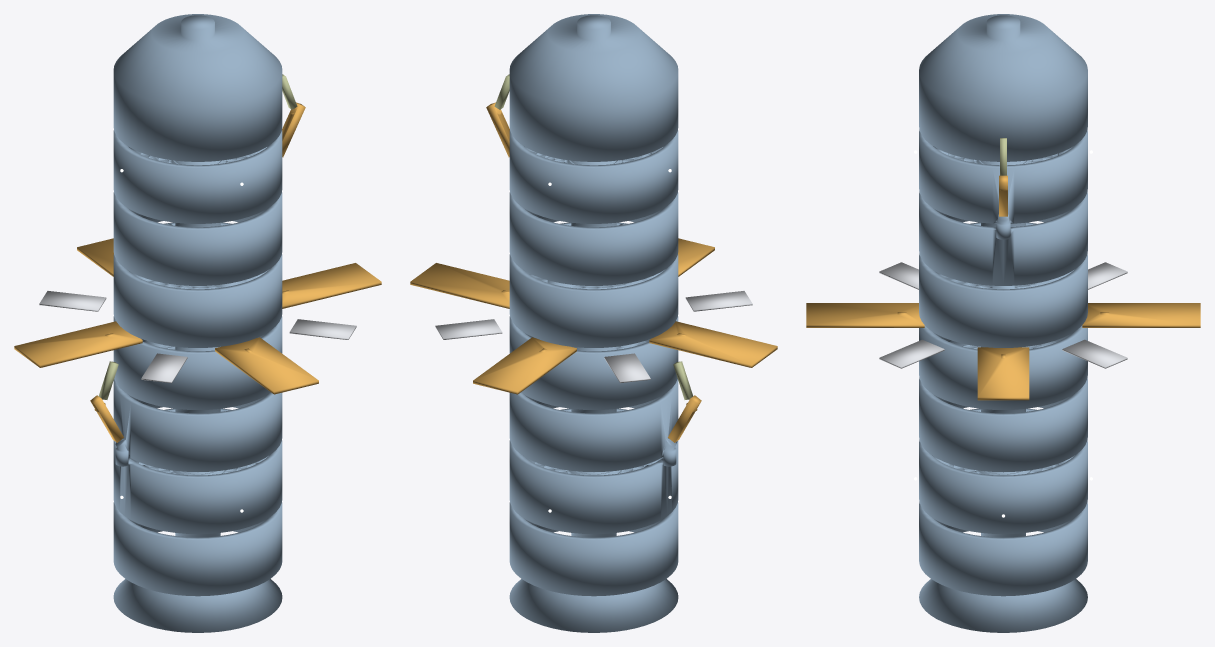
The model's file is seg_earth_station.glb.
3 views of the same model, side by side, from view 1: azimuth 30°, elevation 25°; view 2: azimuth 150°, elevation 25°; view 3: azimuth 270°, elevation 25° (orthographic).
Parts seen in each view (by area): view 1: SEG-EARTH.005, SEG-EARTH.004, SEG-EARTH.001, SEG-EARTH, SEG-EARTH.003, SEG-EARTH.002, SEG-EARTH.006, SEG-EARTH.010, SEG-EARTH.011, SEG-EARTH.008, SEG-EARTH.007, SEG-EARTH.013 (+5 smaller); view 2: SEG-EARTH.005, SEG-EARTH.004, SEG-EARTH.001, SEG-EARTH, SEG-EARTH.003, SEG-EARTH.002, SEG-EARTH.006, SEG-EARTH.010, SEG-EARTH.009, SEG-EARTH.008, SEG-EARTH.007, SEG-EARTH.012 (+5 smaller); view 3: SEG-EARTH.005, SEG-EARTH.001, SEG-EARTH.004, SEG-EARTH, SEG-EARTH.003, SEG-EARTH.002, SEG-EARTH.006, SEG-EARTH.009, SEG-EARTH.011, SEG-EARTH.008, SEG-EARTH.007, SEG-EARTH.012 (+3 smaller).
Boxes of the visible parts, x1=… form: SEG-EARTH.005: x1=113, y1=14, x2=282, y2=161; SEG-EARTH.004: x1=113, y1=130, x2=282, y2=285; SEG-EARTH.001: x1=113, y1=379, x2=282, y2=534; SEG-EARTH: x1=113, y1=502, x2=282, y2=596; SEG-EARTH.003: x1=113, y1=222, x2=282, y2=347; SEG-EARTH.002: x1=113, y1=316, x2=282, y2=409; SEG-EARTH.006: x1=113, y1=579, x2=282, y2=632; SEG-EARTH.010: x1=14, y1=321, x2=142, y2=367; SEG-EARTH.011: x1=215, y1=337, x2=318, y2=394; SEG-EARTH.008: x1=282, y1=263, x2=381, y2=308; SEG-EARTH.007: x1=127, y1=147, x2=268, y2=537; SEG-EARTH.013: x1=39, y1=291, x2=106, y2=311; SEG-EARTH.005: x1=509, y1=14, x2=678, y2=161; SEG-EARTH.004: x1=509, y1=130, x2=678, y2=285; SEG-EARTH.001: x1=509, y1=379, x2=678, y2=534; SEG-EARTH: x1=509, y1=502, x2=678, y2=596; SEG-EARTH.003: x1=509, y1=222, x2=678, y2=347; SEG-EARTH.002: x1=509, y1=316, x2=678, y2=409; SEG-EARTH.006: x1=509, y1=579, x2=678, y2=632; SEG-EARTH.010: x1=649, y1=321, x2=777, y2=367; SEG-EARTH.009: x1=473, y1=337, x2=576, y2=394; SEG-EARTH.008: x1=410, y1=263, x2=509, y2=308; SEG-EARTH.007: x1=523, y1=147, x2=664, y2=537; SEG-EARTH.012: x1=435, y1=319, x2=502, y2=339; SEG-EARTH.005: x1=919, y1=14, x2=1087, y2=161; SEG-EARTH.001: x1=919, y1=378, x2=1087, y2=534; SEG-EARTH.004: x1=919, y1=130, x2=1087, y2=285; SEG-EARTH: x1=919, y1=502, x2=1087, y2=596; SEG-EARTH.003: x1=919, y1=222, x2=1087, y2=347; SEG-EARTH.002: x1=919, y1=325, x2=1087, y2=409; SEG-EARTH.006: x1=919, y1=579, x2=1087, y2=632; SEG-EARTH.009: x1=1082, y1=303, x2=1200, y2=327; SEG-EARTH.011: x1=806, y1=303, x2=924, y2=327; SEG-EARTH.008: x1=977, y1=347, x2=1029, y2=400; SEG-EARTH.007: x1=932, y1=146, x2=1074, y2=537; SEG-EARTH.012: x1=1062, y1=339, x2=1127, y2=368.
Size of the model in its own units: 350 by 574 by 350.
